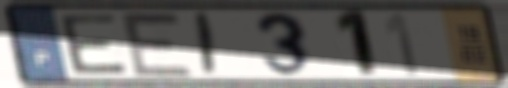1: (332, 8, 383, 82), (382, 10, 421, 79)
3: (253, 9, 319, 80)
E: (116, 9, 198, 79), (55, 12, 132, 76)
I: (194, 10, 219, 78)
